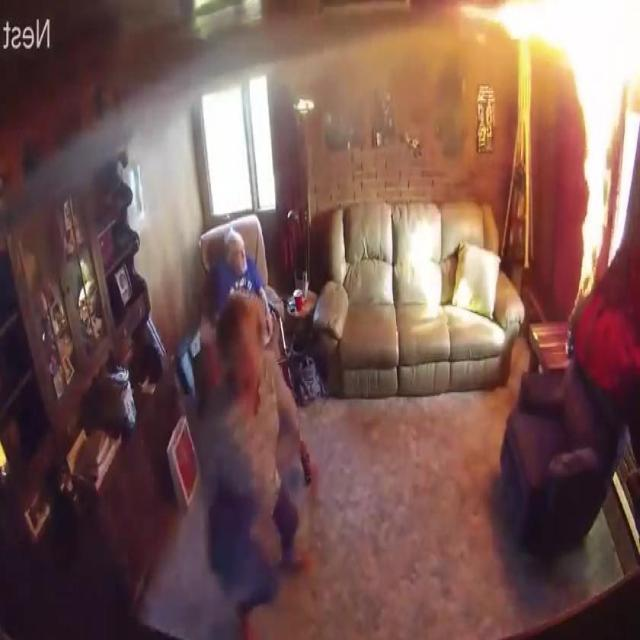fire: (260, 2, 462, 120)
smoke: (577, 0, 638, 298), (462, 0, 640, 56)
